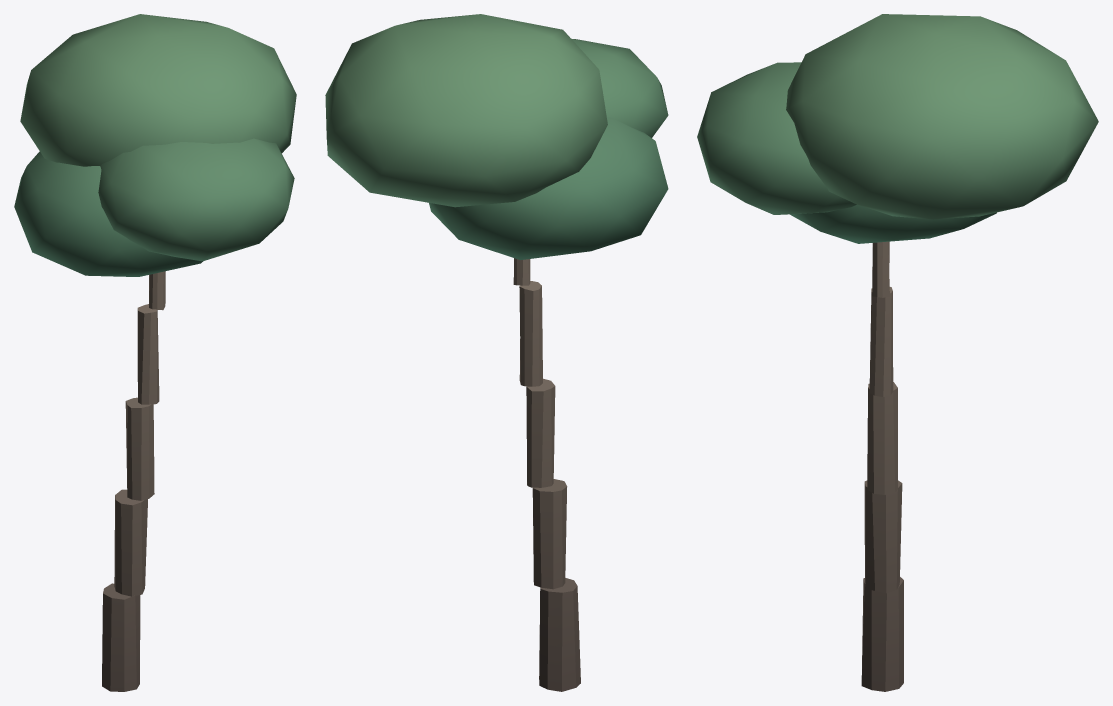
Rendered from canopy_tree.glb.
The picture shows the model from 3 angles, left to right: view 1: azimuth 30°, elevation 25°; view 2: azimuth 150°, elevation 25°; view 3: azimuth 270°, elevation 25°; orthographic projection. The views are drawn at different scales.
Visible parts, largest first — view 1: canopy_tree; view 2: canopy_tree; view 3: canopy_tree.
Part boxes in pixels (left/top/right/bottom): canopy_tree: left=14, top=14, right=296, bottom=691; canopy_tree: left=325, top=14, right=668, bottom=691; canopy_tree: left=697, top=14, right=1098, bottom=691.
Bounding box in the file's own units: 9.93 × 21.88 × 11.69.
